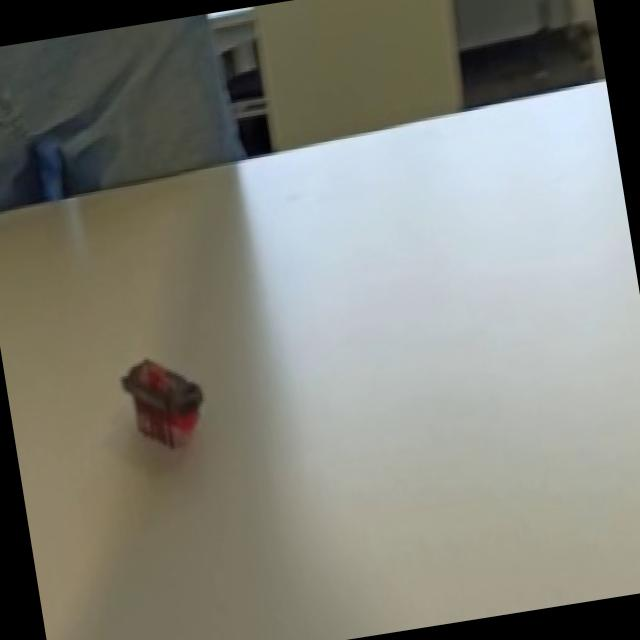2_NanoBug_Negro: (95, 327, 232, 475)
